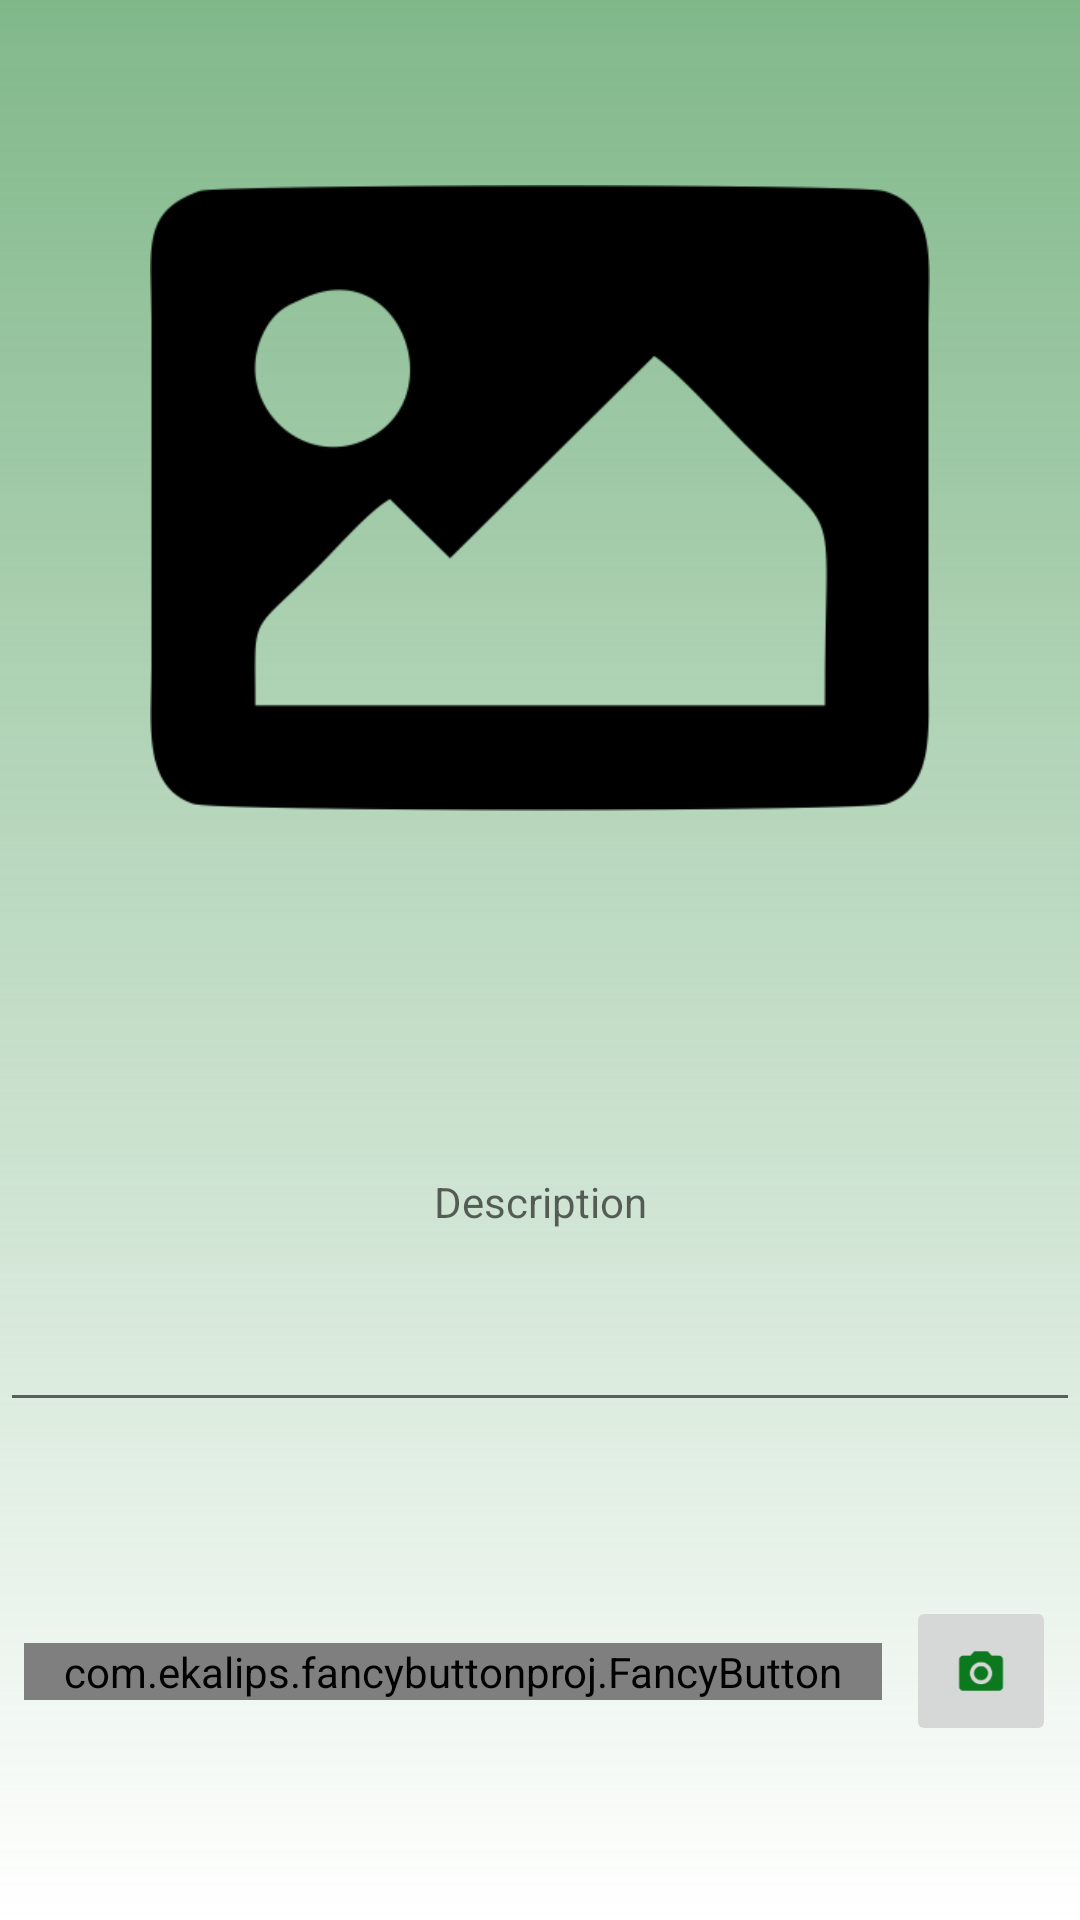

Screen size 1080 x 1920. Icon name, then its box in pixels as (x1, y1, x2, y2):
camera: (918, 1614, 1044, 1728)
